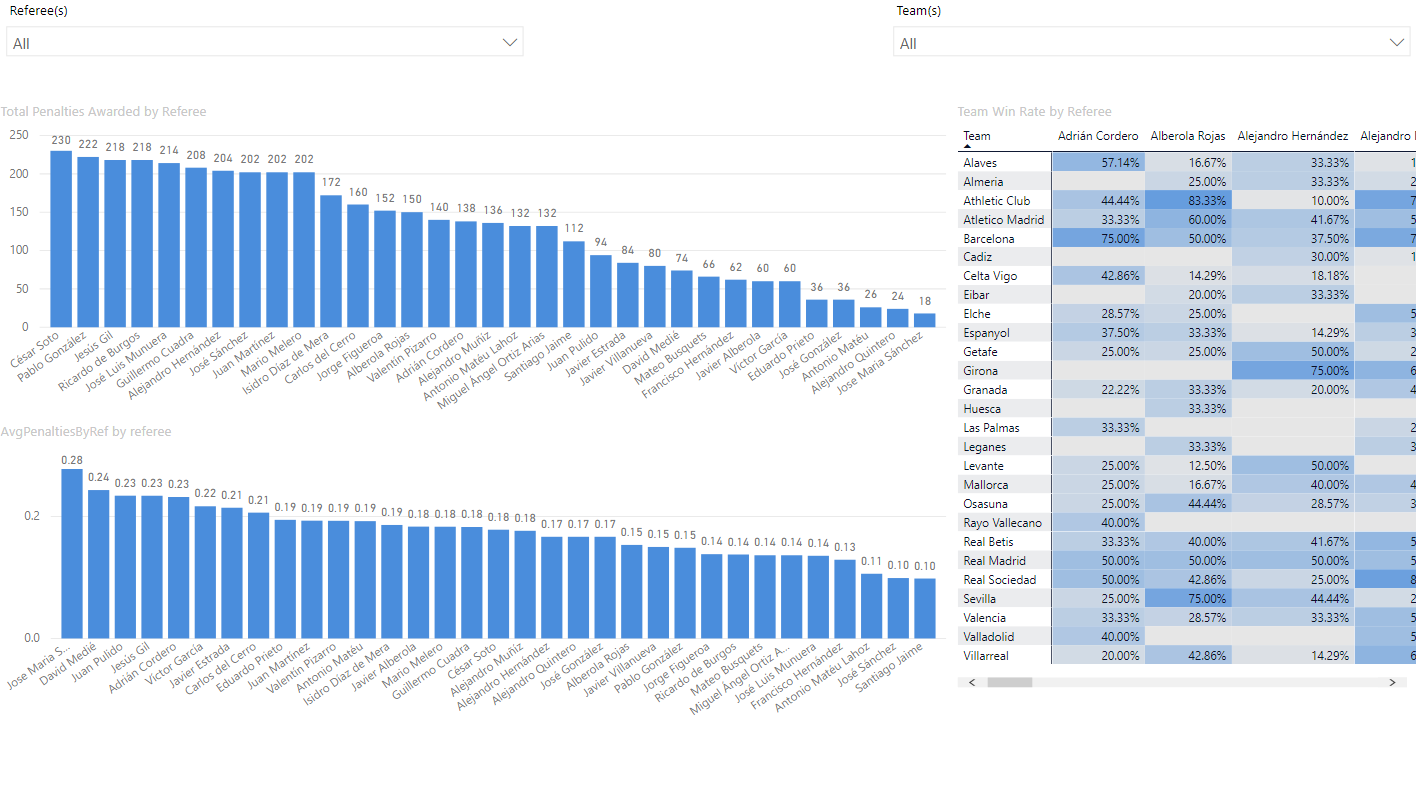

This screenshot's page, from the dashboard's own definition file:
{"tool":"powerbi","page":{"name":"Referee Analysis","canvas":[1280,720],"ordinal":2},"visuals":[{"type":"slicer","fields":{"Values":["public matches.referee"]},"box":[0,0,484.4,65.2],"z":0},{"type":"slicer","fields":{"Values":["public matches.team"]},"box":[795.6,0,484.4,65.2],"z":1000},{"type":"columnChart","fields":{"Category":["public matches.referee"],"Y":["public matches.TotalPenalties"]},"box":[0,96.3,857.9,286.9],"z":2000},{"type":"columnChart","fields":{"Category":["public matches.referee"],"Y":["public matches.AvgPenaltiesByRef"]},"box":[0,383.2,857.9,276.2],"z":3000},{"type":"pivotTable","title":"Team Win Rate by Referee","fields":{"Rows":["public matches.team"],"Columns":["public matches.referee"],"Values":["public matches.TeamWinRateByRef"]},"box":[857.9,96.3,422.1,530.1],"z":4000}]}

Visuals, with their boxes in screenshot pixels (x1, y1, x2, y2), scaled from the page's 1280x720 canvas onto the 1416x788 screenshot:
slicer - public matches.referee: bbox=(0, 0, 536, 71)
slicer - public matches.team: bbox=(880, 0, 1415, 71)
columnChart - public matches.referee x public matches.TotalPenalties: bbox=(0, 105, 949, 419)
columnChart - public matches.referee x public matches.AvgPenaltiesByRef: bbox=(0, 419, 949, 722)
"Team Win Rate by Referee" pivotTable: bbox=(949, 105, 1415, 686)
